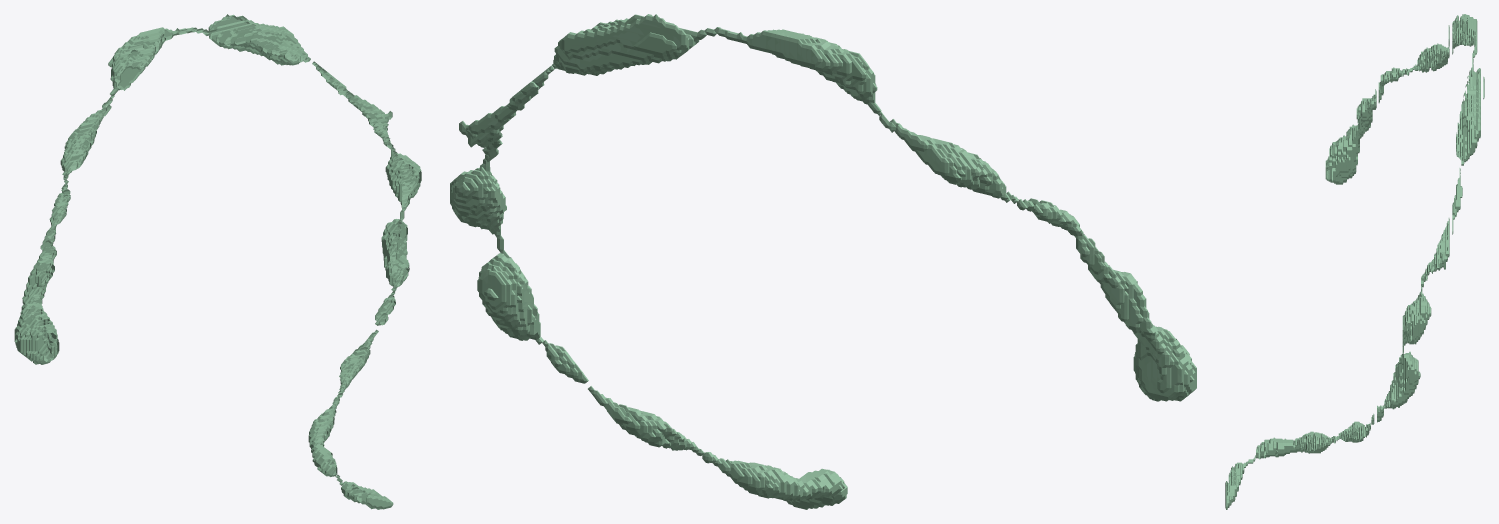
File: SVV_ASER.gltf
3 views of the same model, side by side, from view 1: azimuth 30°, elevation 25°; view 2: azimuth 150°, elevation 25°; view 3: azimuth 270°, elevation 25° (orthographic). The views are drawn at different scales.
Parts seen in each view (by area): view 1: ASER; view 2: ASER; view 3: ASER.
Part boxes in pixels (box(x1,y1,x2,y2)): ASER: box(14, 14, 421, 509); ASER: box(450, 14, 1196, 509); ASER: box(1225, 14, 1484, 509).
Bounding box in the file's own units: 108601 × 98361 × 54327.
